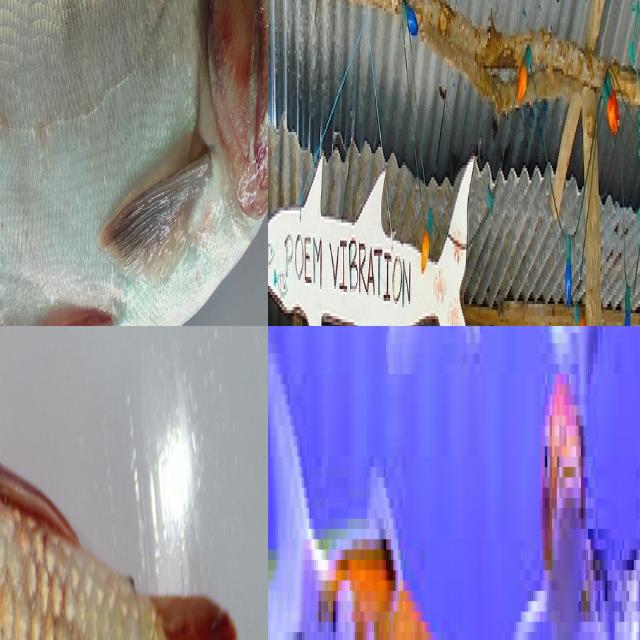fish: (268, 326, 640, 640), (0, 0, 268, 326), (0, 363, 268, 640), (268, 123, 496, 326)
